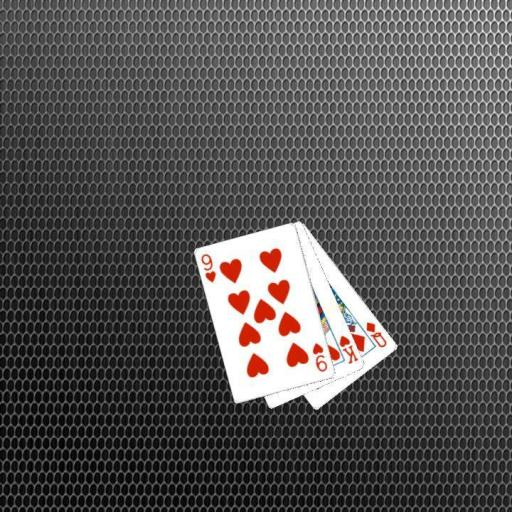card-corner: (336, 332, 360, 366), (363, 319, 388, 349), (198, 250, 218, 284), (310, 340, 330, 373)
